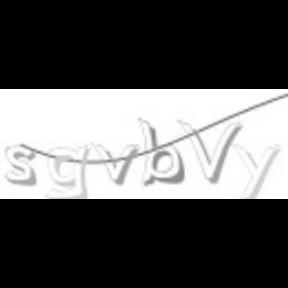V: (176, 117, 244, 184)
b: (137, 112, 185, 190)
g: (44, 144, 90, 199)
s: (2, 145, 36, 187)
v: (90, 140, 138, 188)
y: (232, 142, 284, 200)
